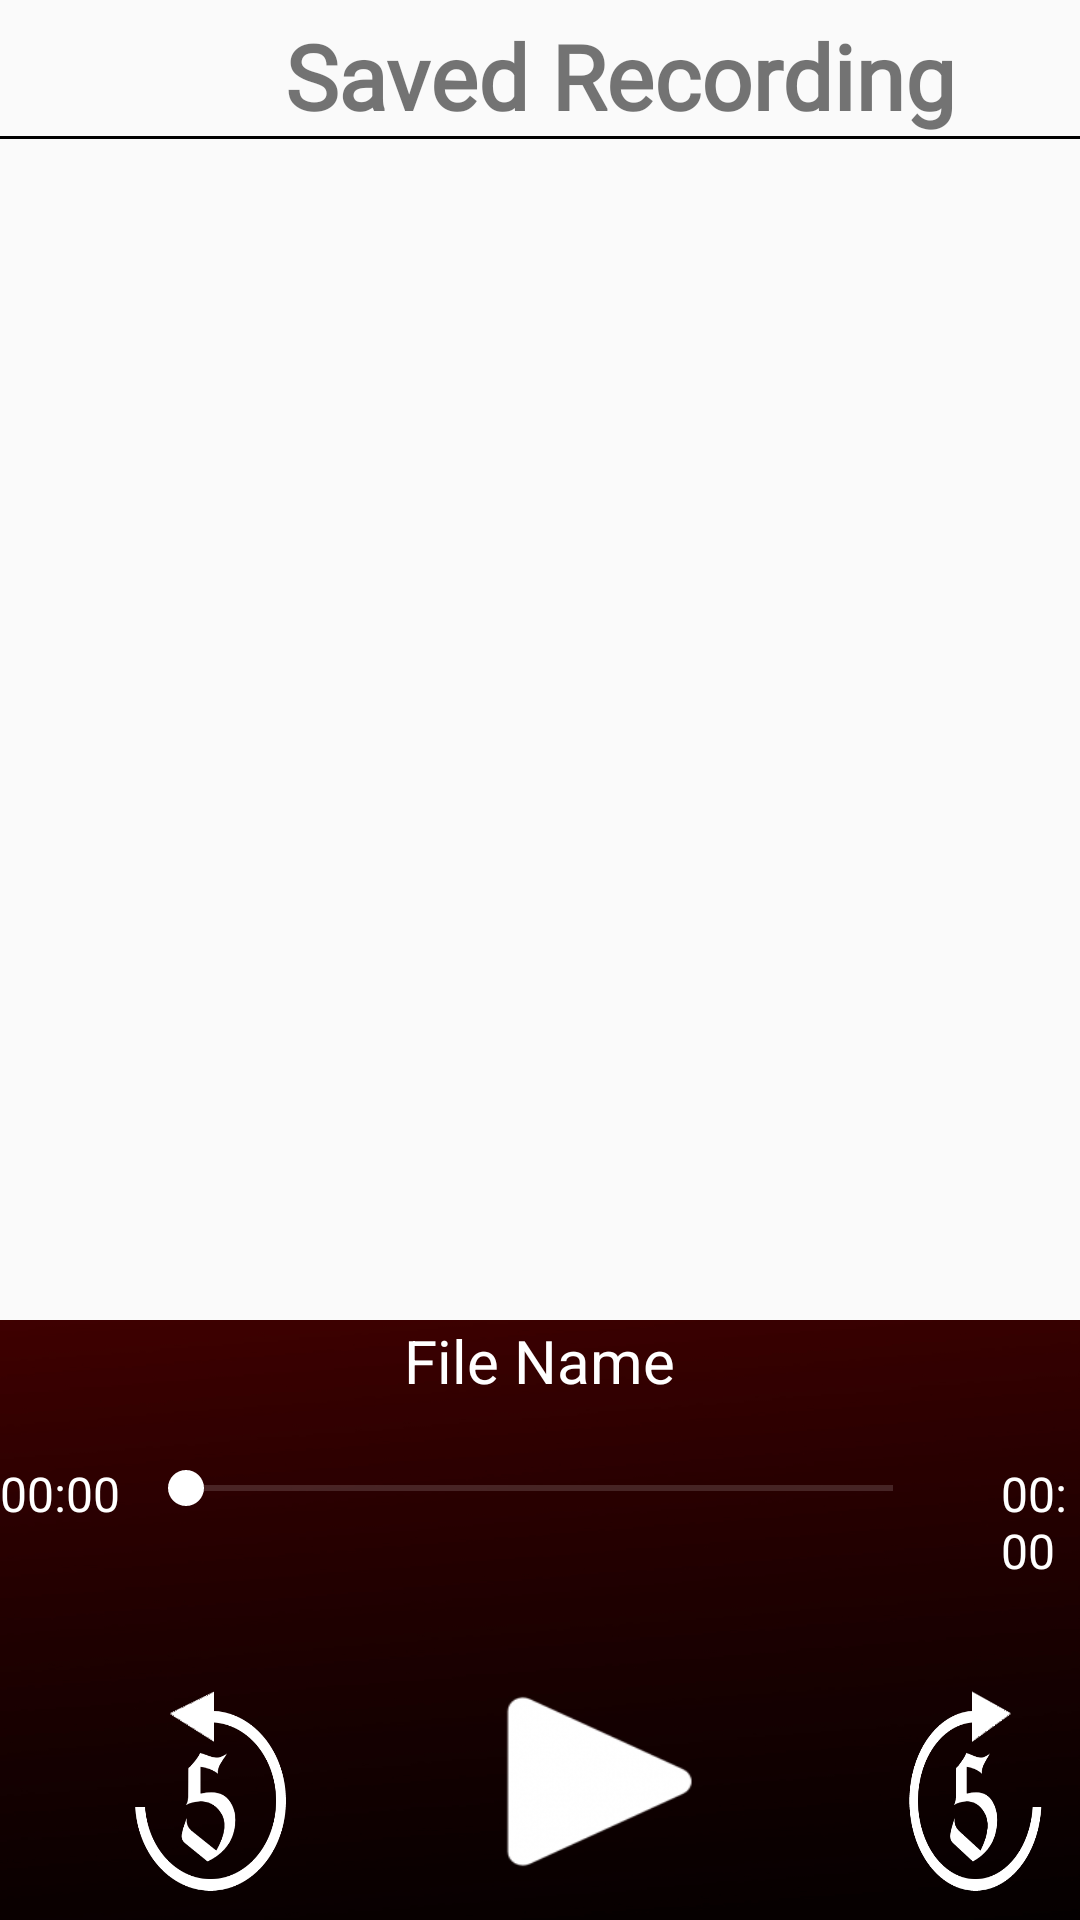

Point at icon controls on the screen. Image size 1080px x 1920px, points as (x,y).
next: (975,1791)
play: (599,1781)
prev: (210,1791)
